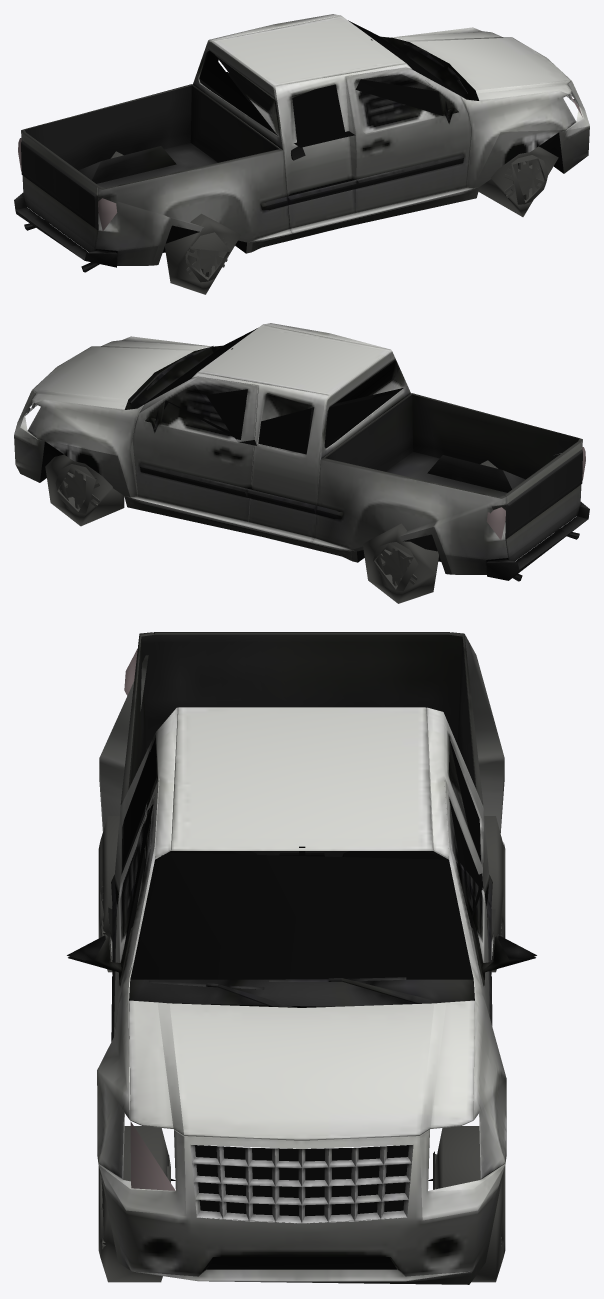
File: pc-pickup-white.lod1.glb
3 renders of one model, top to bottom at view 1: azimuth 30°, elevation 25°; view 2: azimuth 150°, elevation 25°; view 3: azimuth 270°, elevation 25°, orthographic. The views are drawn at different scales.
Parts seen in each view (by area): view 1: Pickup Body_Body_0, Wheel_E_Wheel_0; view 2: Pickup Body_Body_0, Wheel_E_Wheel_0; view 3: Pickup Body_Body_0, Wheel_E_Wheel_0.
Part boxes in pixels (x1,y1,x2,y2): Pickup Body_Body_0: (14,14,589,272); Wheel_E_Wheel_0: (18,20,582,294); Pickup Body_Body_0: (14,323,589,581); Wheel_E_Wheel_0: (45,328,585,603); Pickup Body_Body_0: (67,632,536,1284); Wheel_E_Wheel_0: (98,649,505,1282).
Bounding box in the file's own units: 5.15 × 1.68 × 2.05.
Materials: 2 (1 with a texture image).
